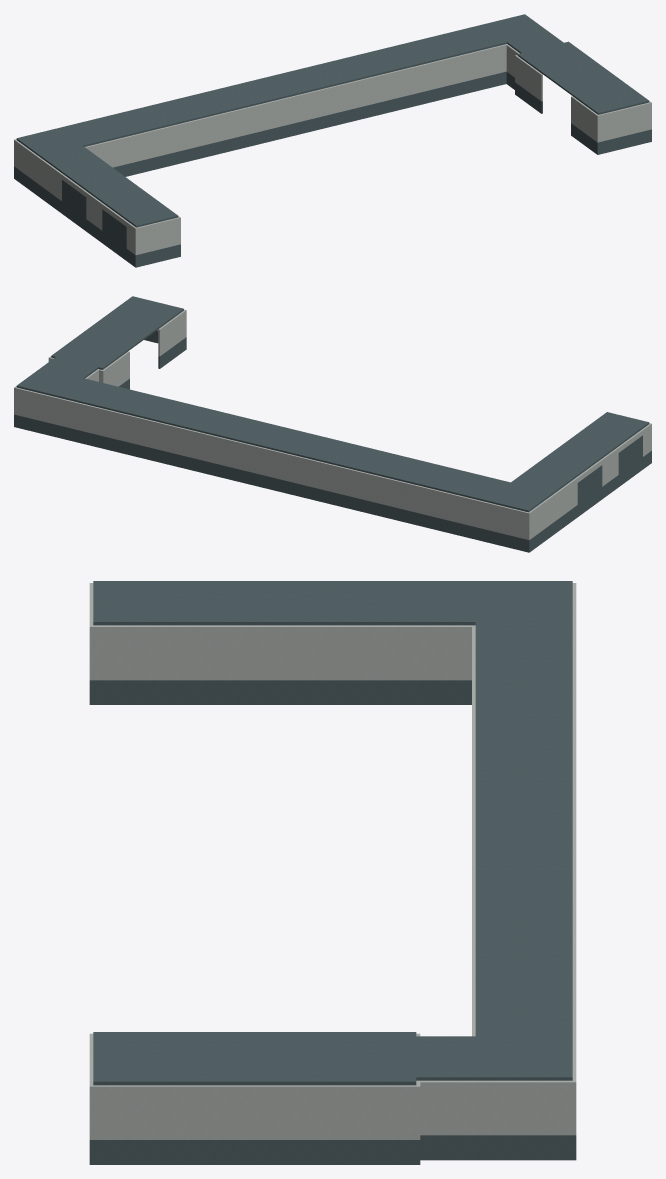
Rendered from AST-RES-TIDAL_D14_guarded_shaft_receiving_r001.glb.
3 views of the same model, one above another, from view 1: azimuth 30°, elevation 25°; view 2: azimuth 150°, elevation 25°; view 3: azimuth 270°, elevation 25° (orthographic). The views are drawn at different scales.
Visible parts, largest first — view 1: TidalStaffRoof_D14_-3_-62_0, TidalStaffRoof_D14_-8_-63_0, TidalStaffWallHigh_D14_-7_-63_0, screen_wall_staff_white_paint_D14_-6_-63, TidalStaffWallHigh_D14_-5_-63_0, TidalStaffWallHigh_D14_-4_-63_0, TidalStaffRoof_D14_-7_-63_0, TidalStaffRoof_D14_-6_-63_0, TidalStaffRoof_D14_-5_-63_0, TidalStaffRoof_D14_-4_-63_0, TidalStaffRoof_D14_-8_-62_0, TidalStaffWallHigh_D14_-3_-61_0 (+18 smaller); view 2: TidalStaffWallHigh_D14_-8_-63_1, TidalStaffRoof_D14_-3_-62_0, TidalStaffRoof_D14_-8_-63_0, TidalStaffWallHigh_D14_-5_-63_1, TidalStaffWallHigh_D14_-4_-63_1, TidalStaffWallHigh_D14_-7_-63_1, screen_wall_staff_white_paint_D14_-6_-63, TidalStaffRoof_D14_-5_-63_0, TidalStaffRoof_D14_-6_-63_0, TidalStaffRoof_D14_-7_-63_0, TidalStaffRoof_D14_-4_-63_0, TidalStaffRoof_D14_-8_-62_0 (+16 smaller); view 3: TidalStaffWallHigh_D14_-8_-62_0, TidalStaffWallHigh_D14_-3_-62_1, TidalStaffRoof_D14_-3_-62_0, TidalStaffRoof_D14_-8_-63_0, TidalStaffRoof_D14_-8_-62_0, TidalStaffWallHigh_D14_-3_-63_1, TidalStaffRoof_D14_-7_-63_0, TidalStaffRoof_D14_-6_-63_0, TidalStaffRoof_D14_-5_-63_0, TidalStaffRoof_D14_-4_-63_0, TidalStaffRoof_D14_-3_-63_0, TidalStaffWallHigh_D14_-8_-61_0 (+11 smaller).
Part boxes in pixels (x1,y1,x2,y2): TidalStaffRoof_D14_-3_-62_0: (517, 41, 621, 94); TidalStaffRoof_D14_-8_-63_0: (16, 119, 119, 168); TidalStaffWallHigh_D14_-7_-63_0: (120, 115, 214, 165); screen_wall_staff_white_paint_D14_-6_-63: (213, 93, 307, 142); TidalStaffWallHigh_D14_-5_-63_0: (307, 70, 400, 119); TidalStaffWallHigh_D14_-4_-63_0: (400, 47, 493, 97); TidalStaffRoof_D14_-7_-63_0: (96, 96, 213, 138); TidalStaffRoof_D14_-6_-63_0: (189, 73, 306, 115); TidalStaffRoof_D14_-5_-63_0: (283, 50, 399, 92); TidalStaffRoof_D14_-4_-63_0: (376, 28, 493, 69); TidalStaffRoof_D14_-8_-62_0: (55, 156, 150, 207); TidalStaffWallHigh_D14_-3_-61_0: (571, 96, 651, 142); TidalStaffWallHigh_D14_-8_-63_1: (448, 483, 569, 540); TidalStaffRoof_D14_-3_-62_0: (51, 316, 156, 369); TidalStaffRoof_D14_-8_-63_0: (448, 471, 567, 512); TidalStaffWallHigh_D14_-5_-63_1: (166, 424, 260, 474); TidalStaffWallHigh_D14_-4_-63_1: (72, 401, 166, 451); TidalStaffWallHigh_D14_-7_-63_1: (354, 470, 448, 520); screen_wall_staff_white_paint_D14_-6_-63: (260, 447, 354, 497); TidalStaffRoof_D14_-5_-63_0: (167, 404, 284, 446); TidalStaffRoof_D14_-6_-63_0: (261, 427, 378, 469); TidalStaffRoof_D14_-7_-63_0: (355, 450, 472, 492); TidalStaffRoof_D14_-4_-63_0: (73, 381, 190, 423); TidalStaffRoof_D14_-8_-62_0: (526, 432, 622, 483); TidalStaffWallHigh_D14_-8_-62_0: (201, 625, 416, 680); TidalStaffWallHigh_D14_-3_-62_1: (201, 1085, 416, 1139); TidalStaffRoof_D14_-3_-62_0: (201, 1032, 416, 1085); TidalStaffRoof_D14_-8_-63_0: (416, 581, 572, 658); TidalStaffRoof_D14_-8_-62_0: (201, 581, 416, 625); TidalStaffWallHigh_D14_-3_-63_1: (416, 1026, 576, 1139); TidalStaffRoof_D14_-7_-63_0: (475, 658, 572, 749); TidalStaffRoof_D14_-6_-63_0: (475, 749, 572, 840); TidalStaffRoof_D14_-5_-63_0: (475, 840, 572, 931); TidalStaffRoof_D14_-4_-63_0: (475, 931, 572, 1022); TidalStaffRoof_D14_-3_-63_0: (416, 1022, 572, 1080); TidalStaffWallHigh_D14_-8_-61_0: (89, 583, 200, 680).
Size of the model in its own units: 44.28 by 3.34 by 18.08.
4 materials, 4 textured.
